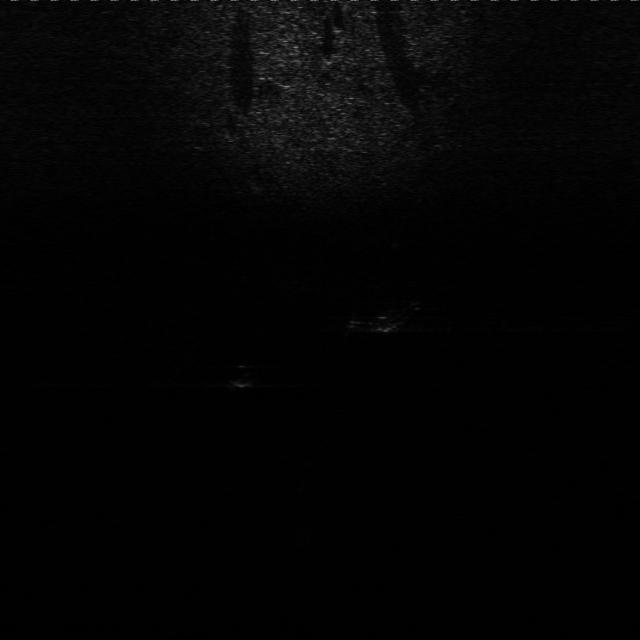ball: (228, 361, 261, 389)
human body: (347, 302, 428, 334)
